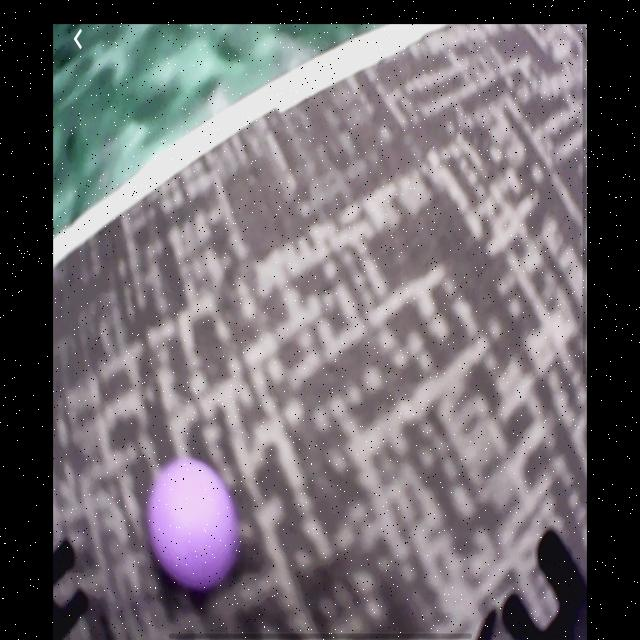ball: (147, 458, 241, 592)
